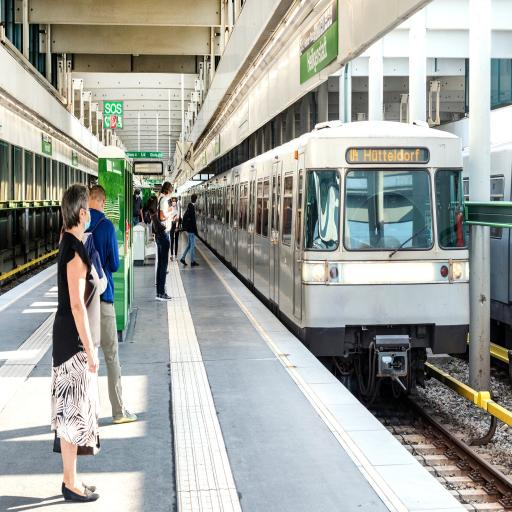Silberpfeil: (184, 116, 471, 386)
